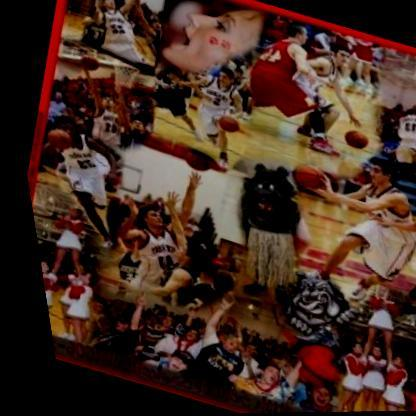basketball: (275, 155, 334, 202), (324, 120, 377, 161), (167, 141, 215, 180), (32, 120, 72, 156), (203, 108, 244, 142), (70, 48, 107, 82)
